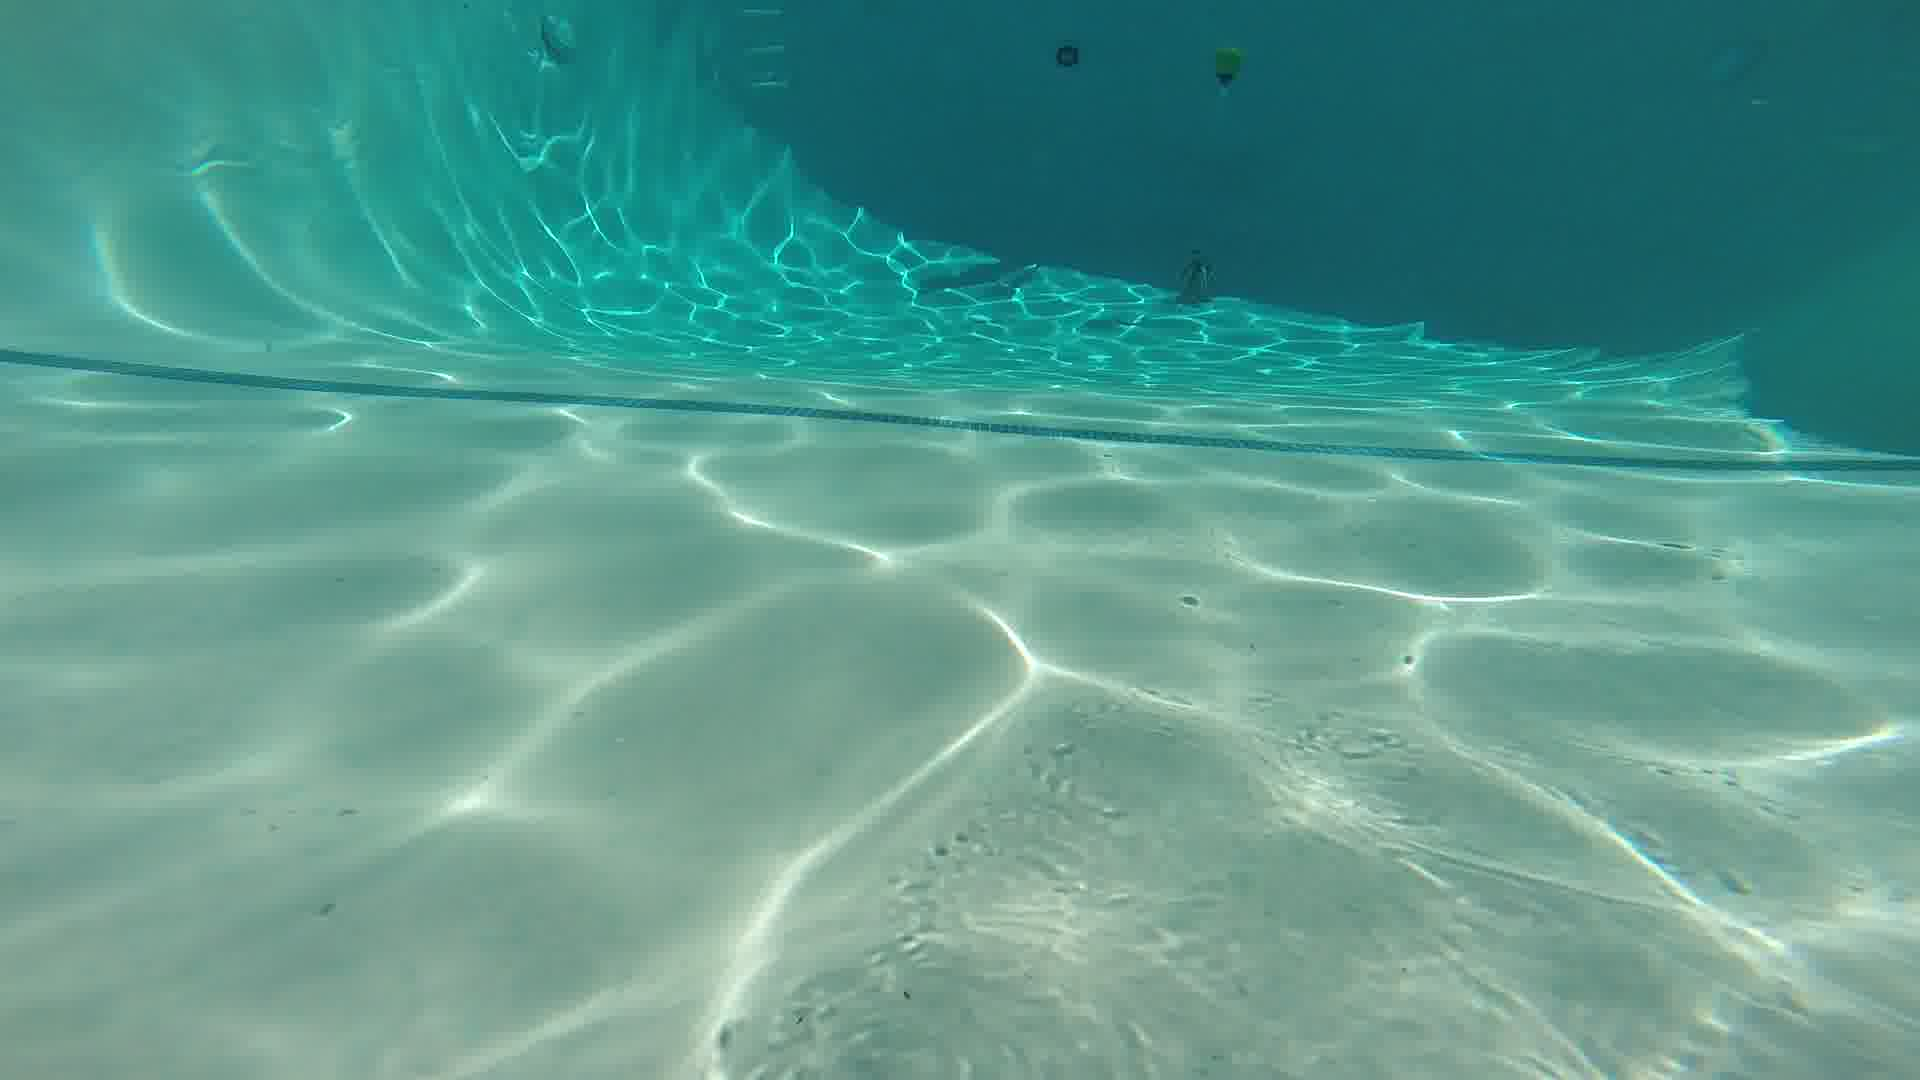yellow buoy: (1211, 40, 1244, 96)
